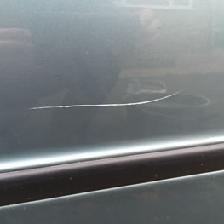scrach: (9, 29, 220, 183)
